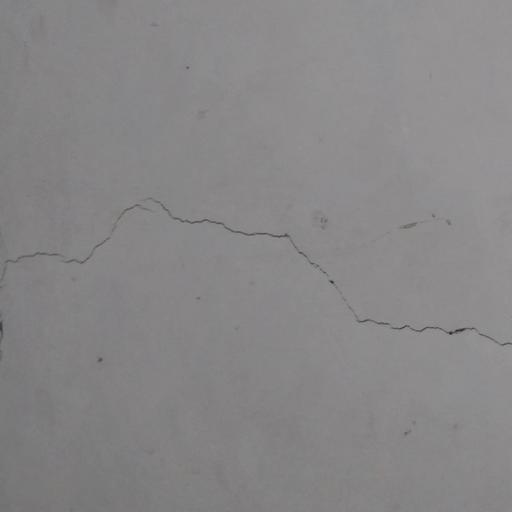minor_crack: (0, 171, 512, 362)
